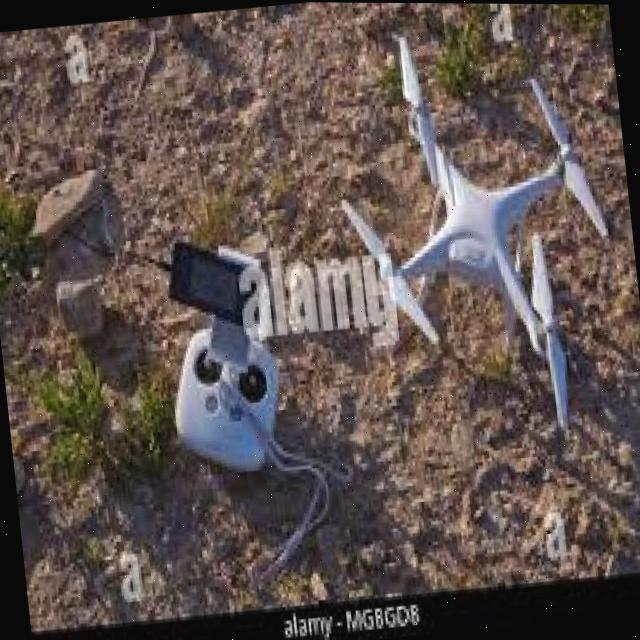drone: (322, 28, 640, 441)
